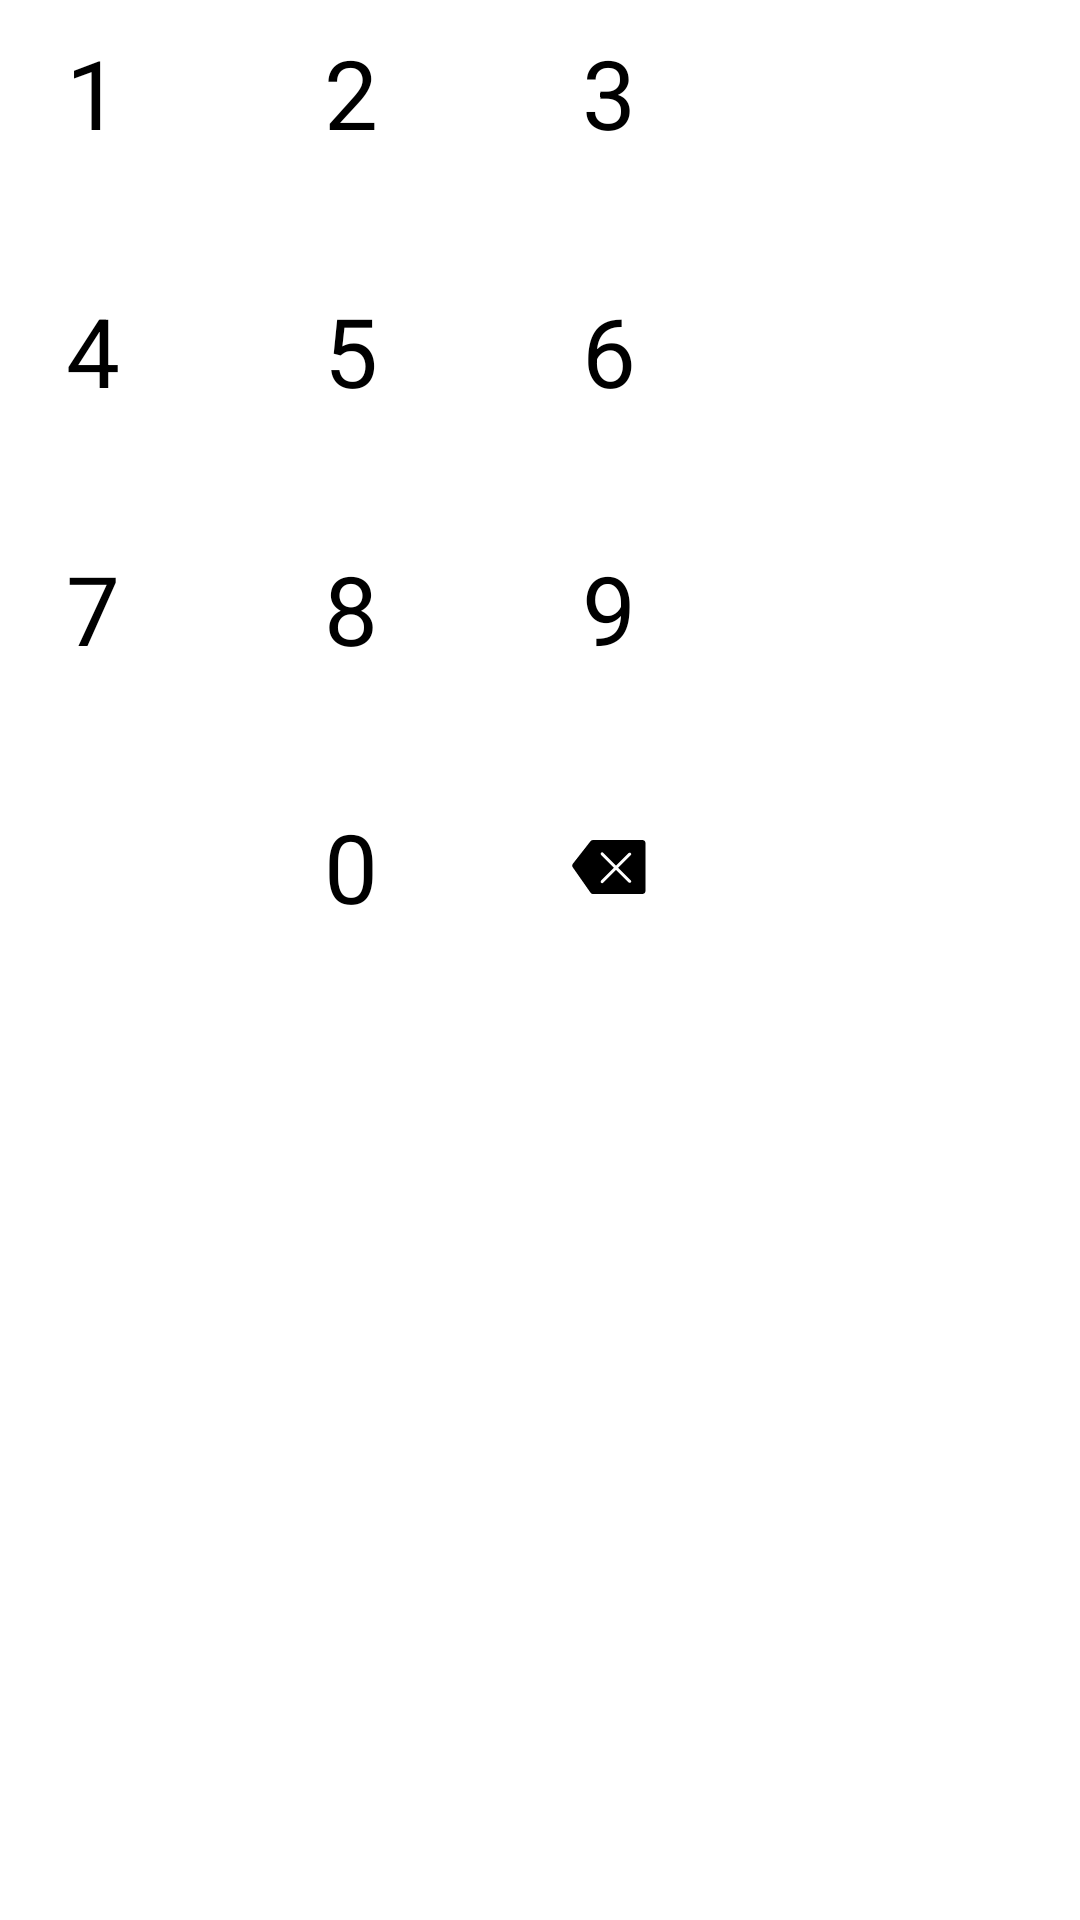

Where to tap for icons on this 1080x1920 app screen, as point (x, y):
pin delete: point (609, 867)
